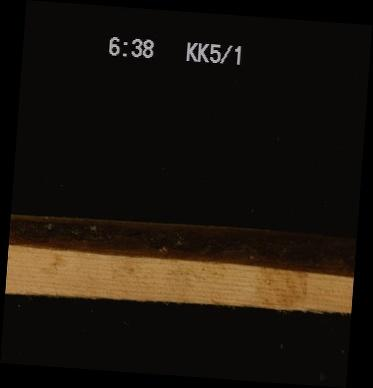wave: (9, 222, 355, 266)
